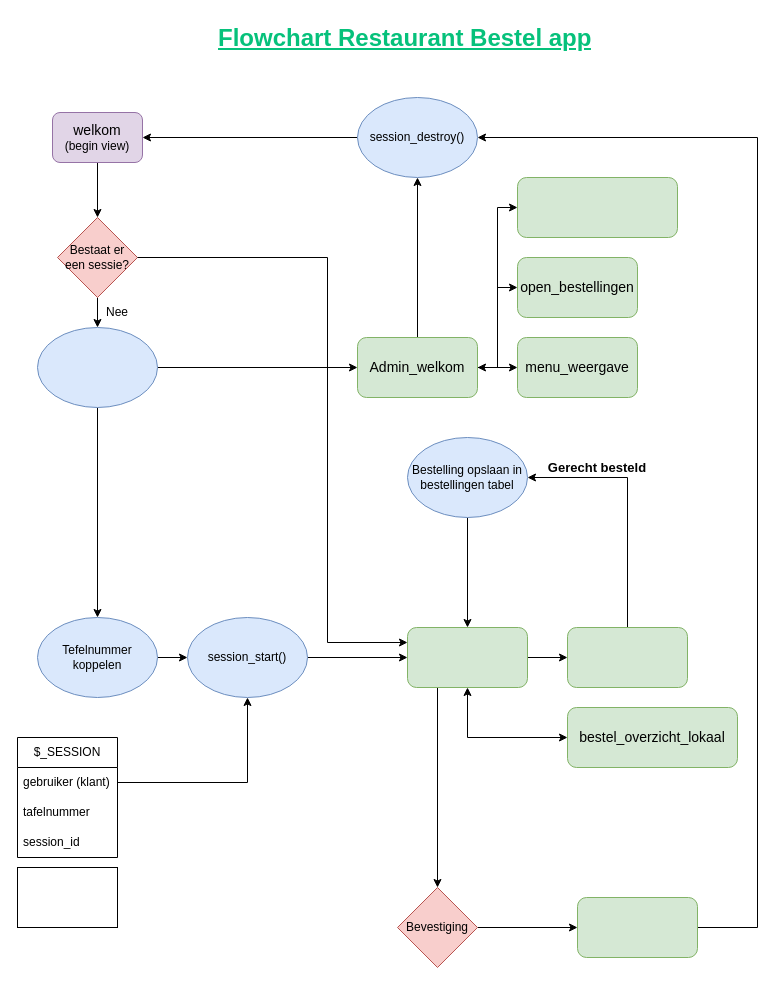
Image size: 783x985. Some labels were removed from this diagram. The shapes that lost their labels are listed below. From the top down, each one's box as (x1, y1, x2, y2) in pixels, then its label:
(516, 176, 678, 238): bestel_overzicht_globaal
(36, 326, 158, 408): Werknemers logincode invoeren
(406, 626, 528, 688): bestel_menu (klant_welkom)
(566, 626, 688, 688): gerecht (individueel gerecht bekijken)
(16, 866, 118, 928): Nieuwe sessie toevoegen in tafel_sessies
(576, 896, 698, 958): betalen
